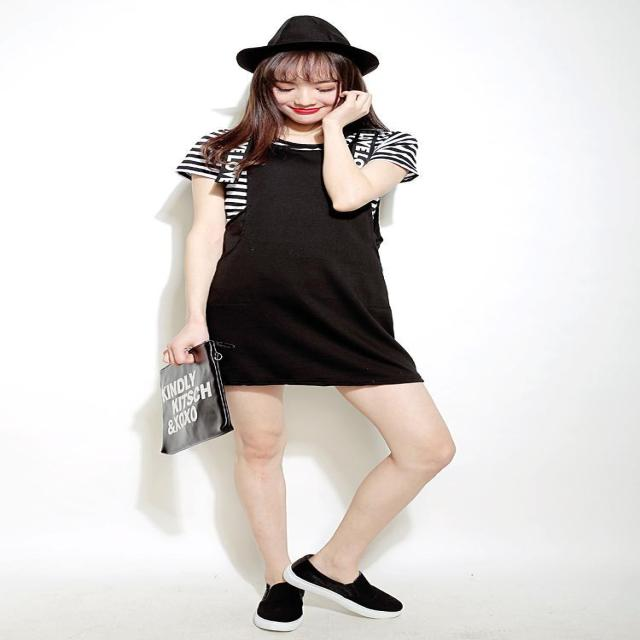short-sleeve-dress: (162, 117, 456, 408)
